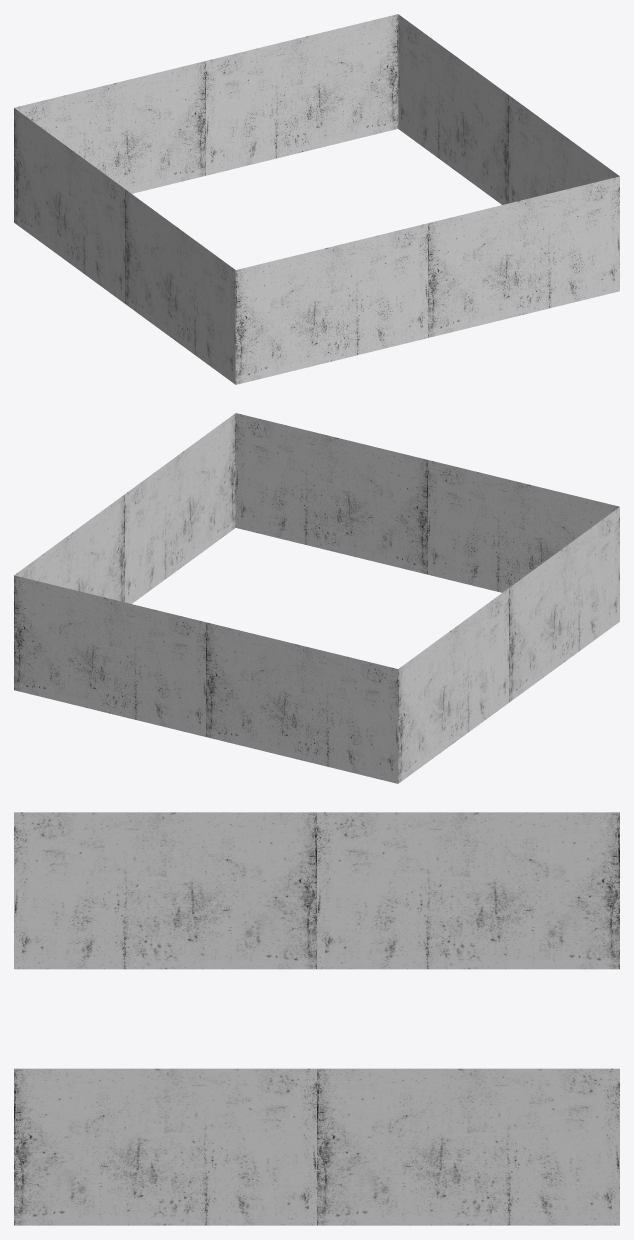
Rendered from SM_TEST_Walls.fbx.
3 renders of one model, top to bottom at view 1: azimuth 30°, elevation 25°; view 2: azimuth 150°, elevation 25°; view 3: azimuth 270°, elevation 25°, orthographic. The views are drawn at different scales.
Parts seen in each view (by area): view 1: Plane004, Plane018, Plane019, Plane011, Plane016, Plane017, Plane005, Plane012; view 2: Plane011, Plane019, Plane004, Plane018, Plane016, Plane017, Plane012, Plane005; view 3: Plane005, Plane012, Plane016, Plane017.
Part boxes in pixels (bbox=[...]): Plane004: bbox=[206, 14, 398, 175]; Plane018: bbox=[235, 223, 427, 384]; Plane019: bbox=[428, 176, 619, 337]; Plane011: bbox=[14, 61, 205, 193]; Plane016: bbox=[14, 108, 124, 303]; Plane017: bbox=[125, 189, 235, 384]; Plane005: bbox=[398, 14, 508, 204]; Plane012: bbox=[509, 95, 619, 203]; Plane011: bbox=[206, 622, 398, 783]; Plane019: bbox=[235, 413, 427, 574]; Plane004: bbox=[14, 575, 205, 736]; Plane018: bbox=[428, 460, 619, 592]; Plane016: bbox=[398, 588, 508, 783]; Plane017: bbox=[509, 507, 619, 702]; Plane012: bbox=[125, 413, 235, 603]; Plane005: bbox=[14, 494, 124, 602]; Plane005: bbox=[317, 1068, 619, 1225]; Plane012: bbox=[14, 1068, 316, 1225]; Plane016: bbox=[317, 812, 619, 969]; Plane017: bbox=[14, 812, 316, 969].
Bounding box in the file's own units: 1400 × 400 × 1400.
1 material, 1 textured.
